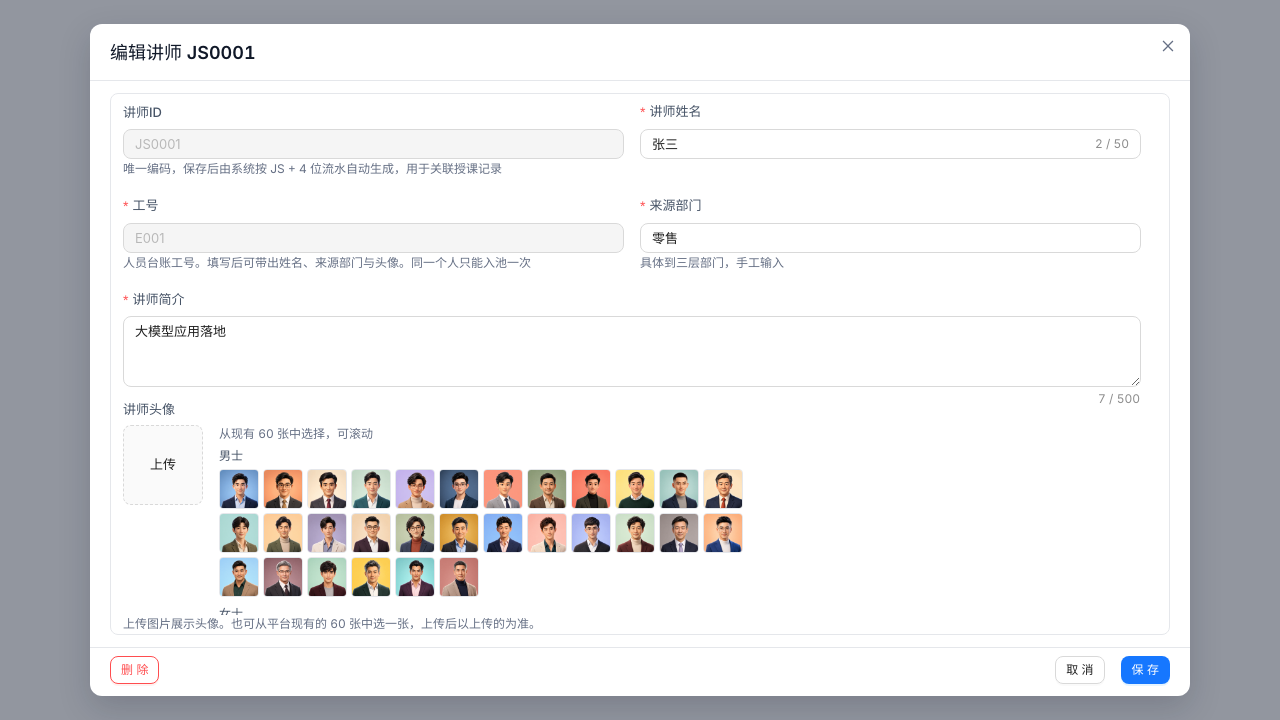
Scenario: 讲师表单 › 已移出时移出原因出现且必填
The image size is (1280, 720).
Click the button "保 存" at (1145, 670), box 1121,656 -> 1170,684
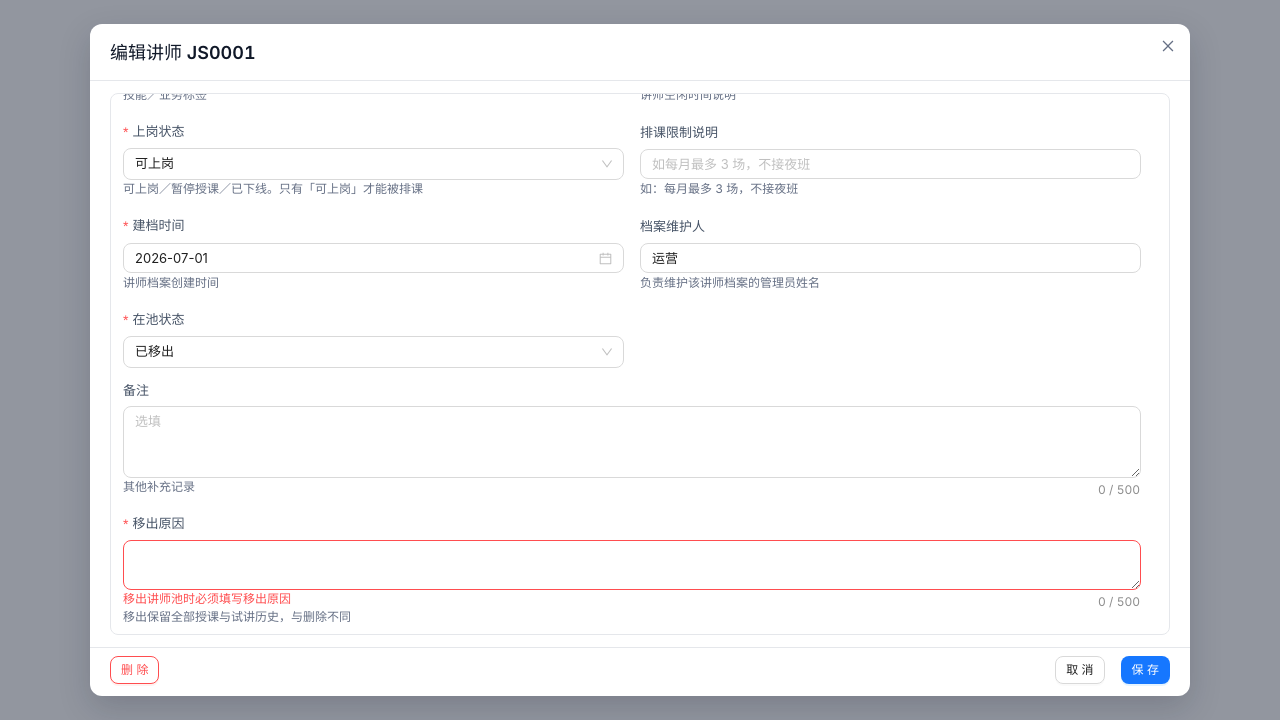
Check: the text "移出讲师池时必须填写移出原因" is shown, box 123,591 -> 291,606
